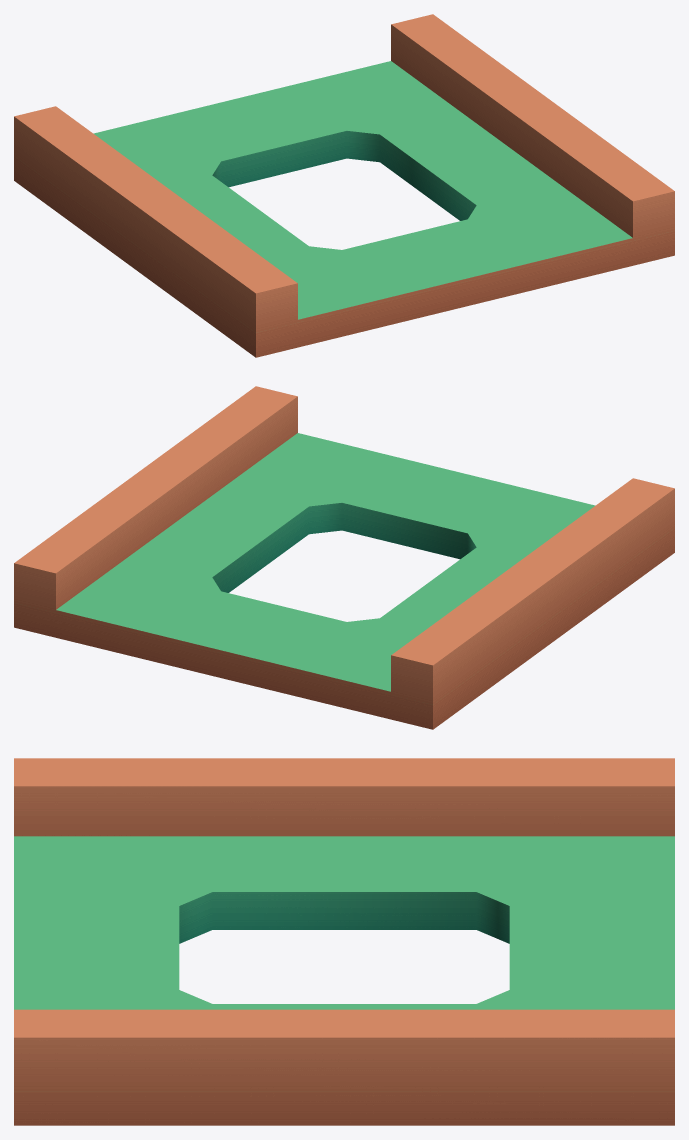
Rendered from gap.glb.
The picture shows the model from 3 angles, top to bottom: view 1: azimuth 30°, elevation 25°; view 2: azimuth 150°, elevation 25°; view 3: azimuth 270°, elevation 25°; orthographic projection. The views are drawn at different scales.
Visible parts, largest first — view 1: gap; view 2: gap; view 3: gap.
Boxes of the visible parts, <box> form: gap: <box>14,14,674,357</box>; gap: <box>14,386,674,729</box>; gap: <box>14,758,674,1125</box>.
Size of the model in its own units: 0.9999 by 0.1467 by 0.9999.
1 material, 1 textured.
